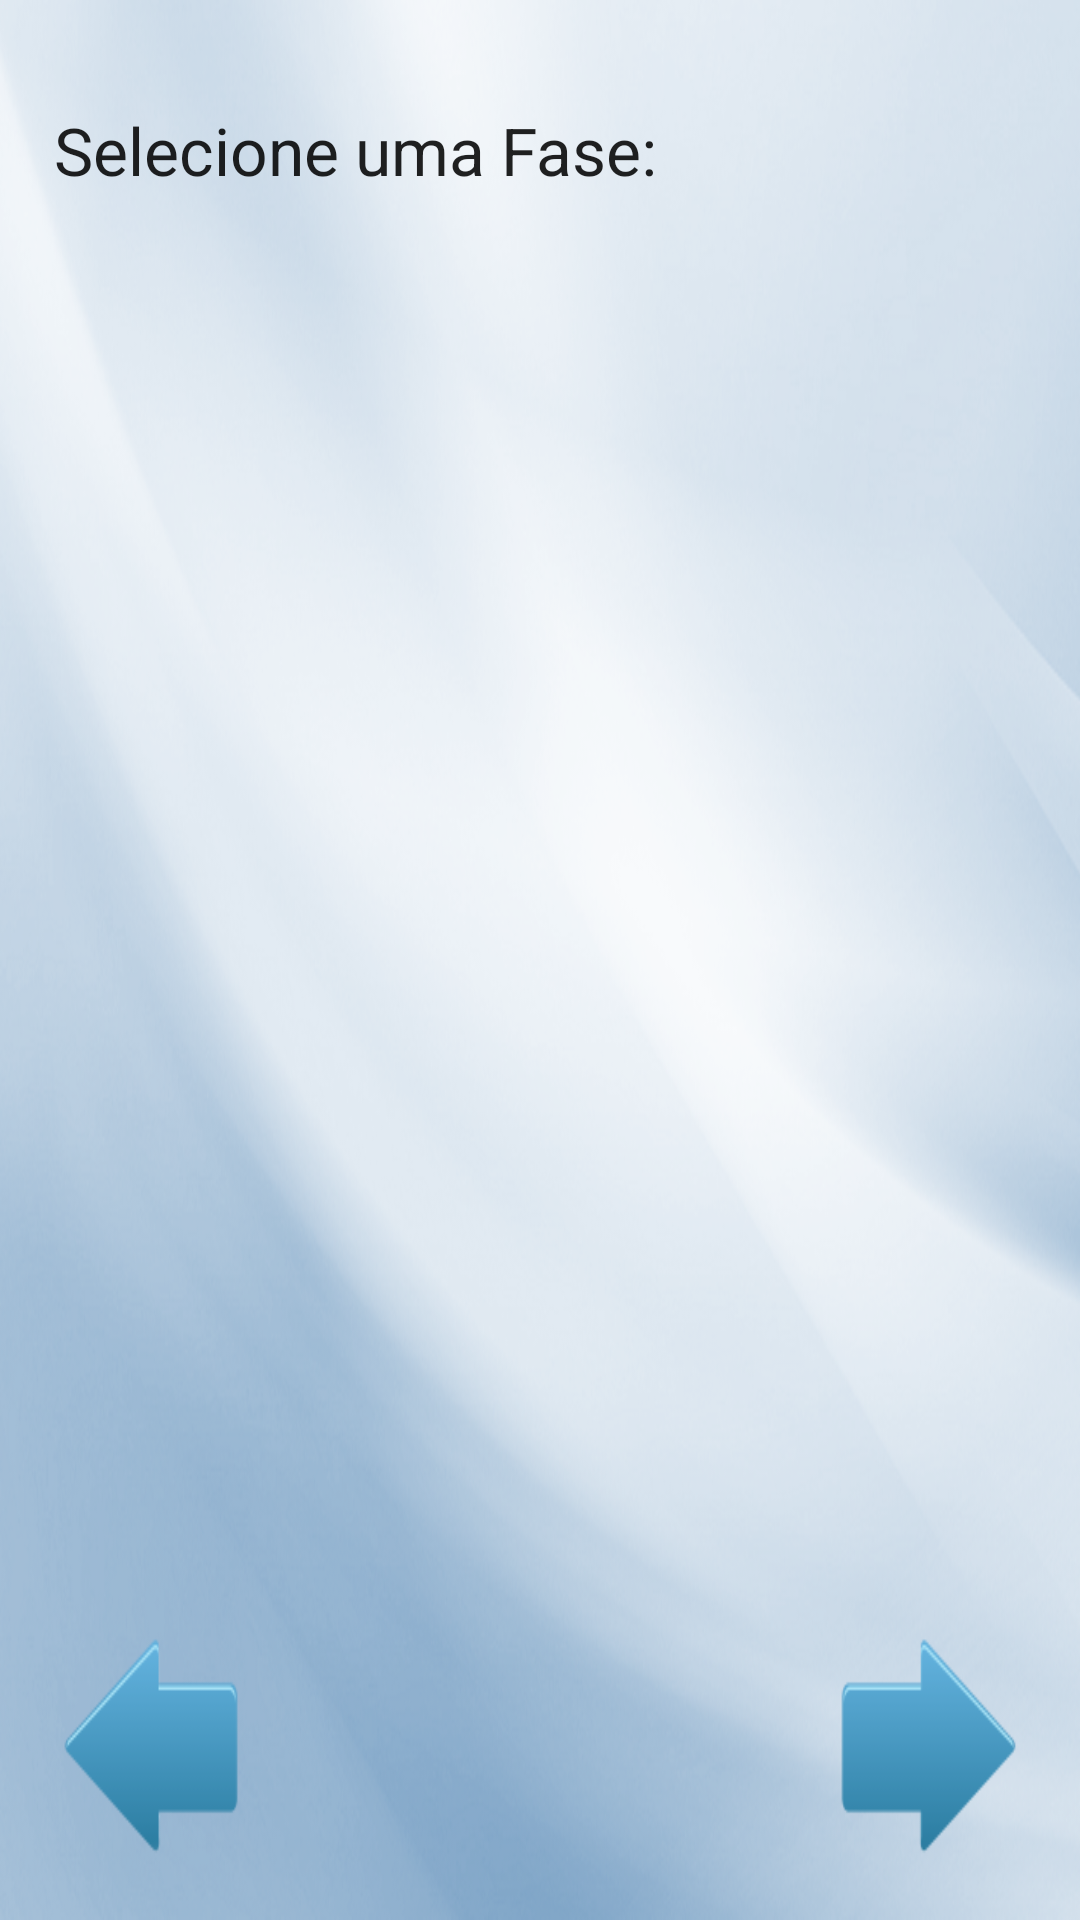

Screen size 1080 x 1920. Icon name, then its center in pixels as (x,y):
seta direita: (924,1775)
seta esquerda: (151,1745)
